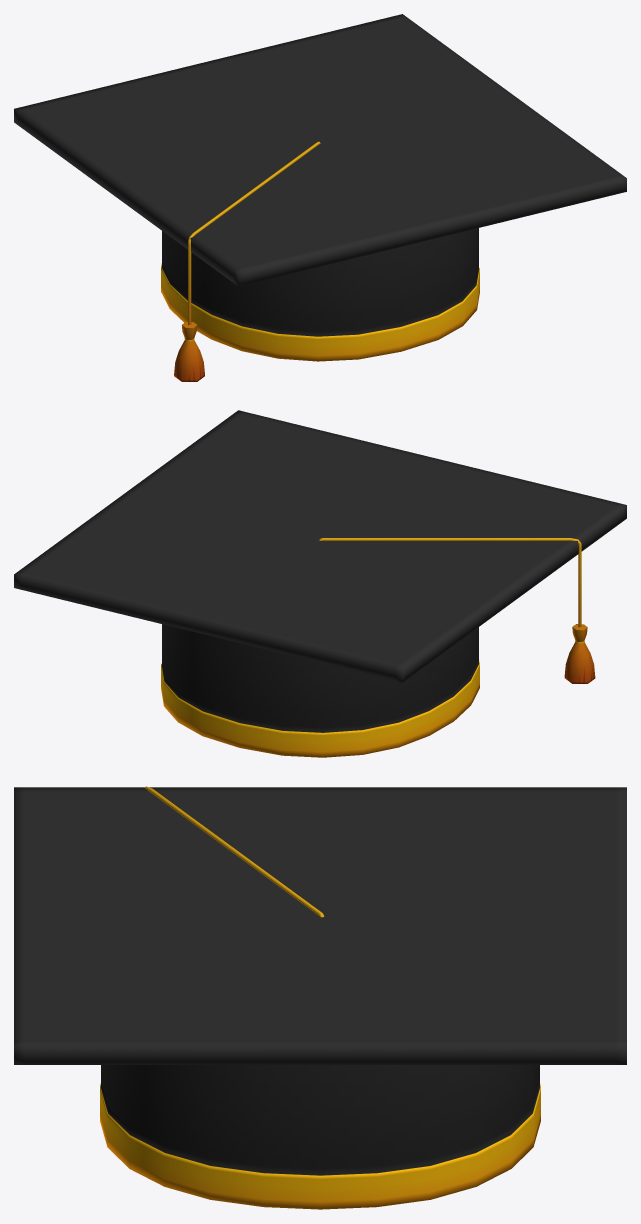
The model's file is tinker.obj.
3 renders of one model, top to bottom at view 1: azimuth 30°, elevation 25°; view 2: azimuth 150°, elevation 25°; view 3: azimuth 270°, elevation 25°, orthographic. The views are drawn at different scales.
Parts seen in each view (by area): view 1: GraduationCap; view 2: GraduationCap; view 3: GraduationCap.
Boxes of the visible parts, bbox=[...] form: GraduationCap: bbox=[14, 14, 626, 381]; GraduationCap: bbox=[14, 410, 626, 757]; GraduationCap: bbox=[14, 786, 626, 1209].
Size of the model in its own units: 48.76 by 17.9 by 47.24.
